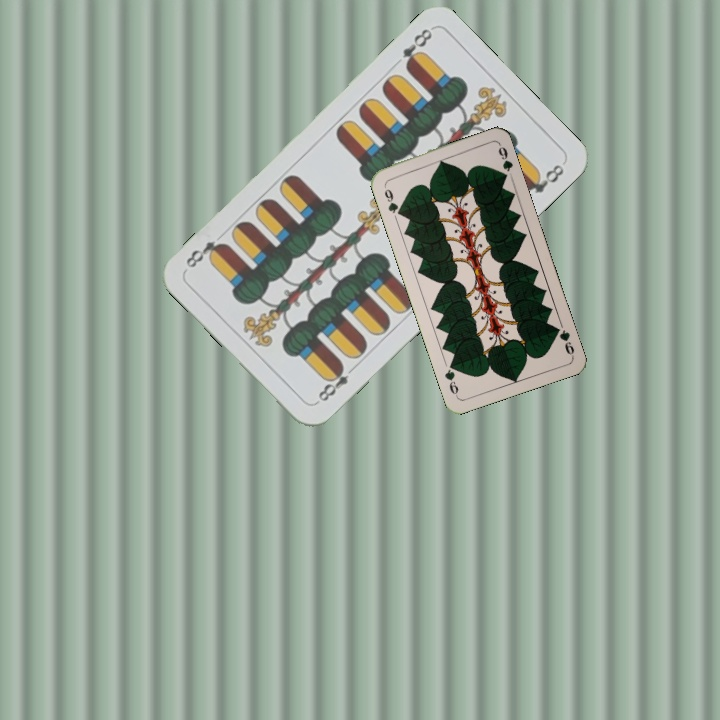E8: (312, 360, 359, 406), (398, 24, 435, 72)
G9: (550, 322, 577, 359), (380, 180, 404, 218)
